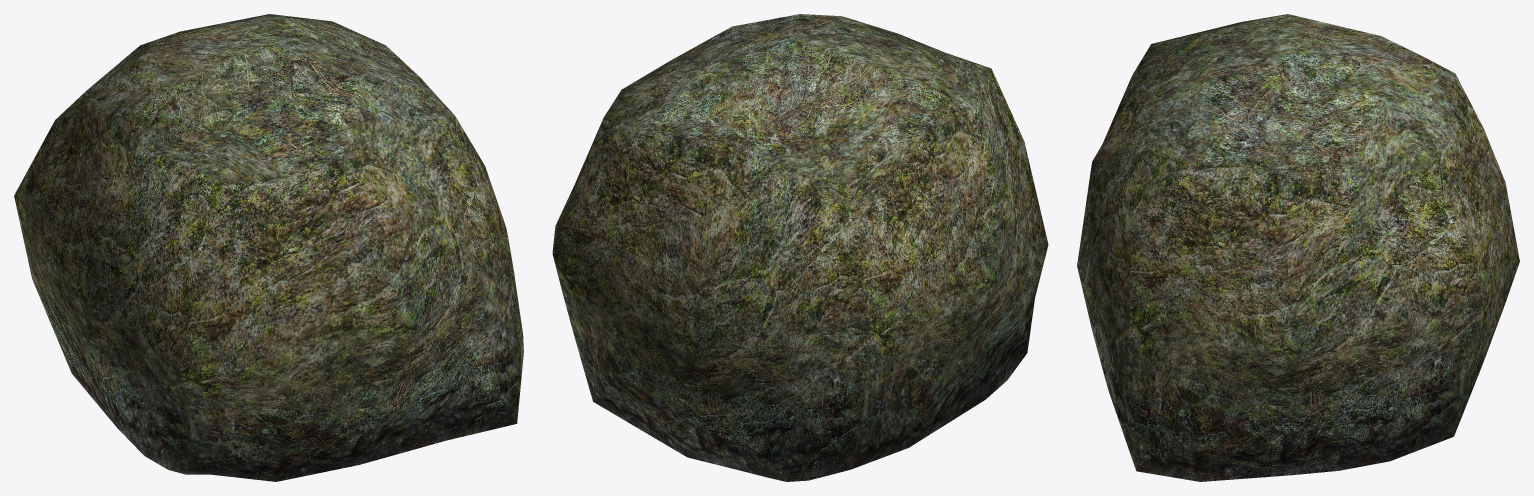
Rendered from thm_all_cavewall_damprock_a1_l1.fbx.
3 views of the same model, side by side, from view 1: azimuth 30°, elevation 25°; view 2: azimuth 150°, elevation 25°; view 3: azimuth 270°, elevation 25° (orthographic). The views are drawn at different scales.
Visible parts, largest first — view 1: mesh_node; view 2: mesh_node; view 3: mesh_node.
Boxes of the visible parts, box(x1,y1,x2,y2) form: mesh_node: box(14, 14, 523, 481); mesh_node: box(552, 14, 1048, 481); mesh_node: box(1077, 14, 1519, 481).
Bounding box in the file's own units: 11.24 × 10.79 × 11.11.
